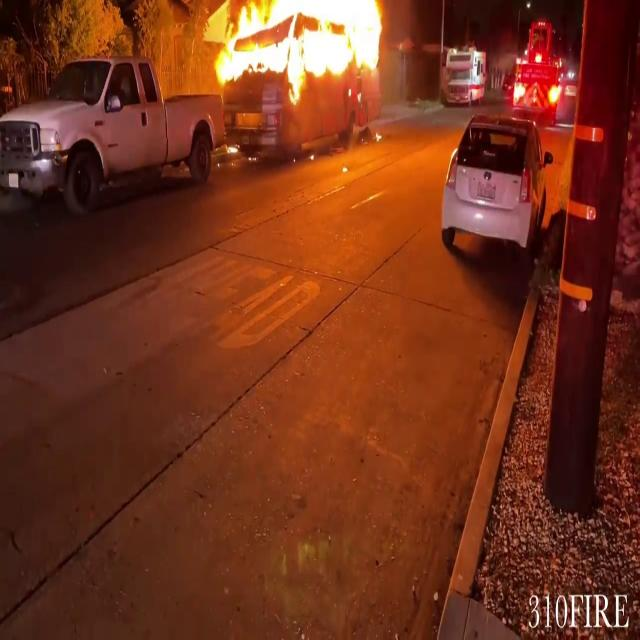Fire: (201, 0, 391, 94)
